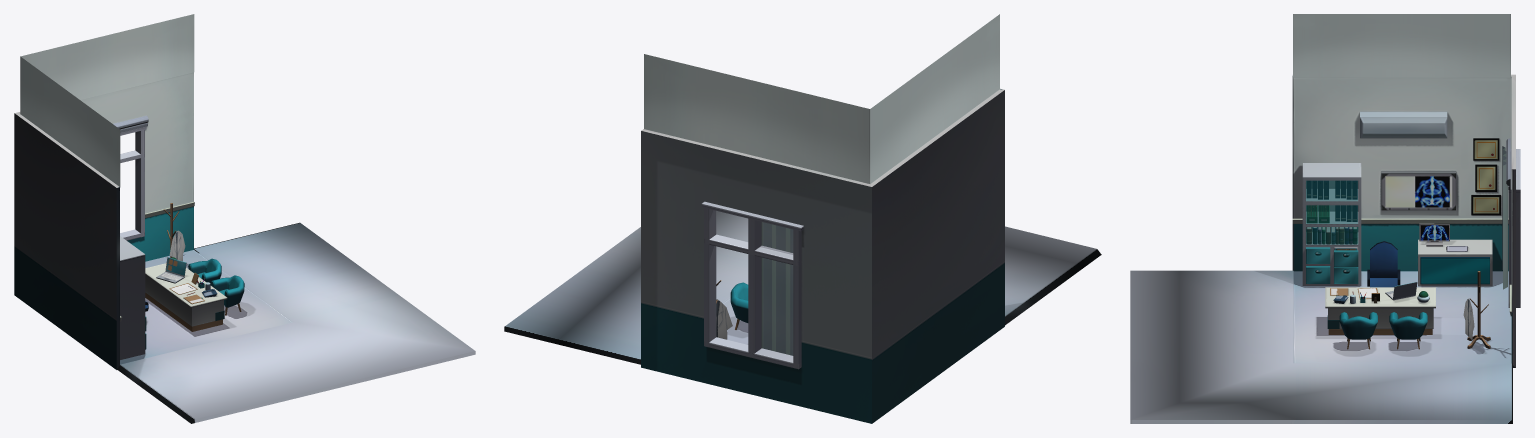
File: Tx_Interior_Work_Hospital_20170713.fbx
The picture shows the model from 3 angles, left to right: view 1: azimuth 30°, elevation 25°; view 2: azimuth 150°, elevation 25°; view 3: azimuth 270°, elevation 25°; orthographic projection. The views are drawn at different scales.
Visible parts, largest first — view 1: Expanded_:Expand, polySurface214, polySurface210, pPlane2; view 2: polySurface214, Expanded_:Expand, polySurface210; view 3: polySurface214, Expanded_:Expand, pPlane2, polySurface210, polySurface213, polySurface212, polySurface211.
Part boxes in pixels (x1=…): Expanded_:Expand: x1=20, y1=14, x2=475, y2=423; polySurface214: x1=14, y1=72, x2=292, y2=369; polySurface210: x1=156, y1=257, x2=244, y2=315; pPlane2: x1=113, y1=115, x2=204, y2=304; polySurface214: x1=641, y1=89, x2=1004, y2=423; Expanded_:Expand: x1=504, y1=14, x2=1101, y2=364; polySurface210: x1=730, y1=222, x2=793, y2=355; polySurface214: x1=1292, y1=74, x2=1520, y2=367; Expanded_:Expand: x1=1130, y1=14, x2=1512, y2=423; pPlane2: x1=1306, y1=138, x2=1510, y2=340; polySurface210: x1=1333, y1=146, x2=1507, y2=349; polySurface213: x1=1306, y1=181, x2=1357, y2=200; polySurface212: x1=1306, y1=205, x2=1357, y2=223; polySurface211: x1=1306, y1=227, x2=1357, y2=244.
Size of the model in its own units: 36.41 by 29.34 by 39.71.
Materials: 6 (5 with a texture image).
